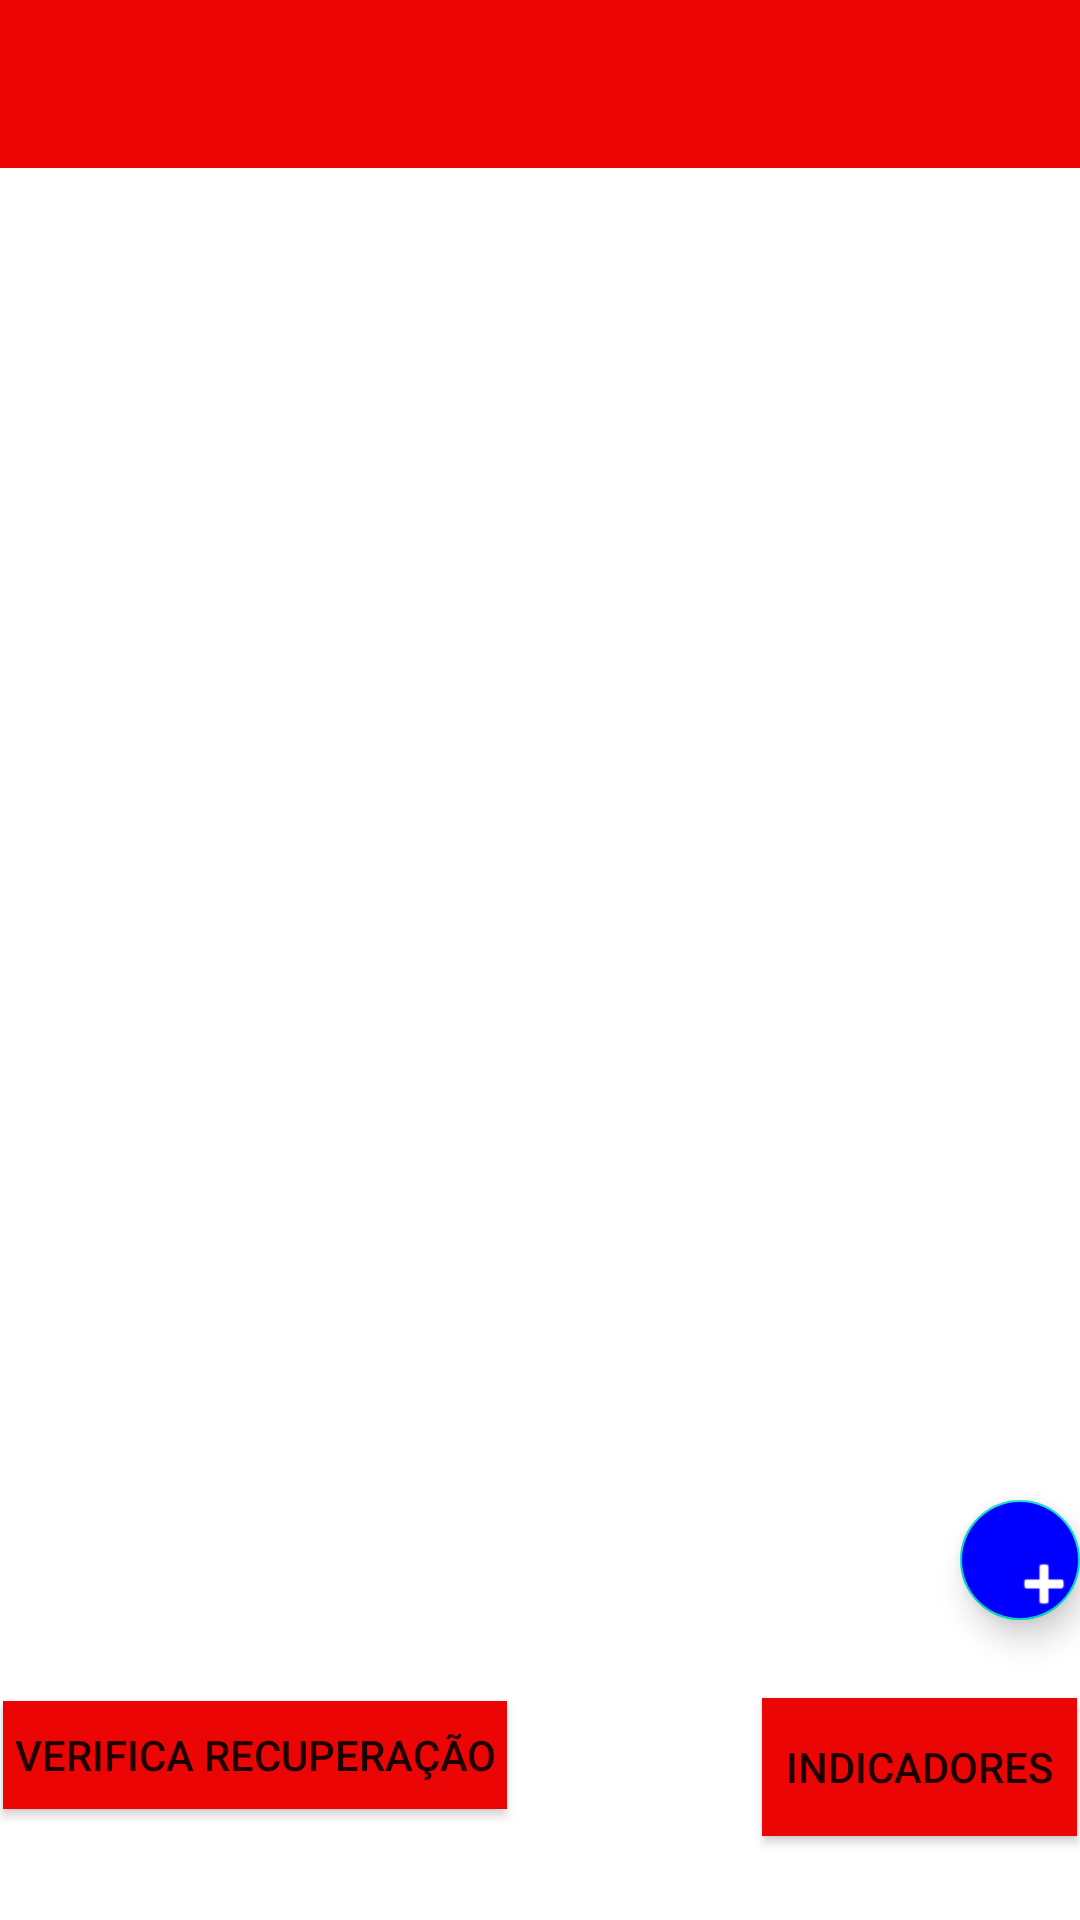

Point at icon controls on the screen. Image size 1080 x 1920, points as [x,y].
add: [1020,1560]
